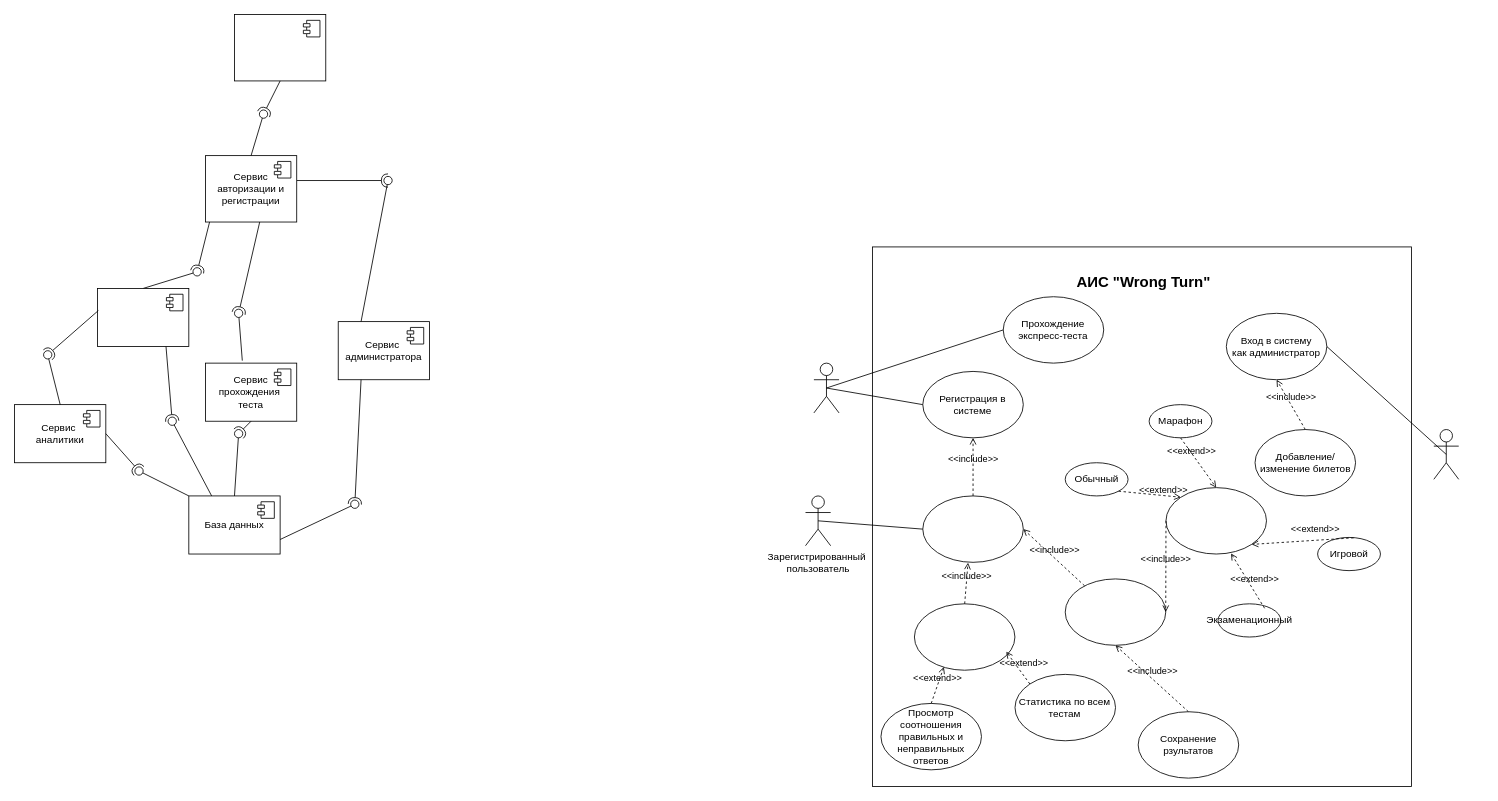
Image size: 1498x801. Some labels were removed from this diagram. The shapes that lost their labels are listed below. From the top down, each one's box as (x1, y1, x2, y2) in pixels, then its label:
(234, 14, 326, 81): Веб-сайт
(97, 288, 189, 347): Сервис пользователей
(813, 362, 839, 413): Незарегистрированный пользователь
(1433, 429, 1459, 479): Администратор системы
(922, 495, 1023, 562): Вход в систему
(1165, 487, 1266, 554): Выбор режима тестирования
(1064, 578, 1166, 645): Прохождение теста
(914, 603, 1015, 670): Личный кабинет
